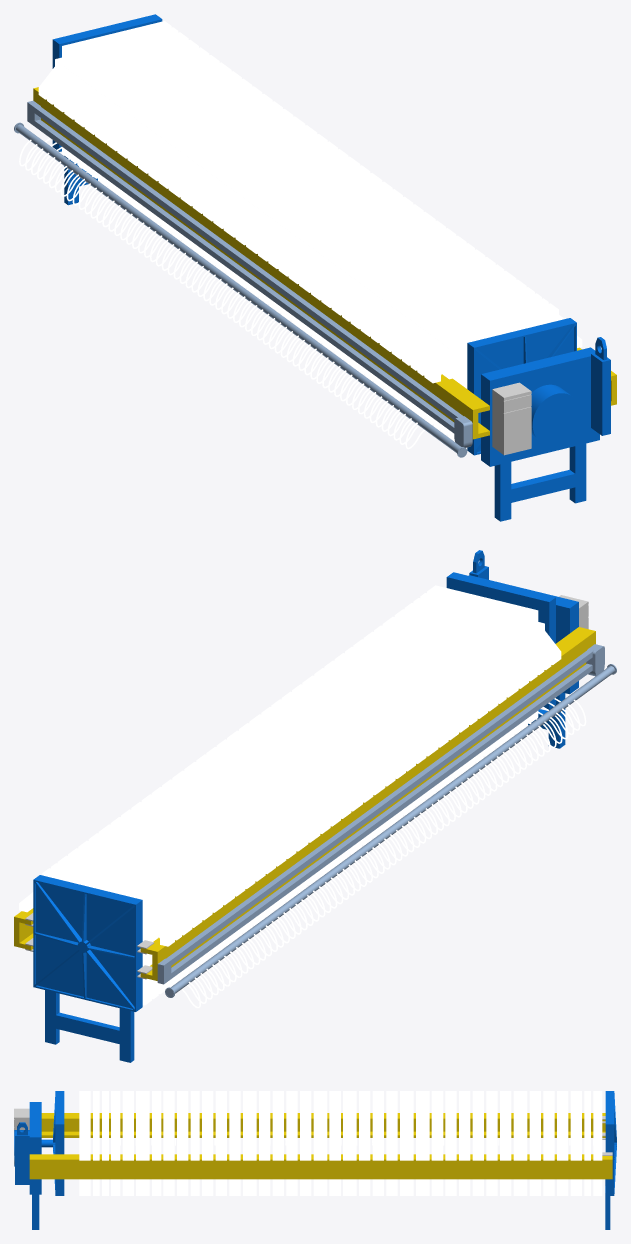
Rendered from diaphragm-filter-press.gltf.
The picture shows the model from 3 angles, top to bottom: view 1: azimuth 30°, elevation 25°; view 2: azimuth 150°, elevation 25°; view 3: azimuth 270°, elevation 25°; orthographic projection. The views are drawn at different scales.
Visible parts, largest first — view 1: 连接的实心几何图形 [292866], 拉伸 [292215], 拉伸 [292234], 拉伸 [292878], 连接的实心几何图形 [291610], 拉伸 [292263], 双电源切换箱 压滤机控制箱 [292364], 滤板 滤板 [291733], 拉伸 [292241], 拉伸 [292245], 拉伸 [292504], 滤板 滤板 [291750] (+37 smaller); view 2: 连接的实心几何图形 [292866], 拉伸 [292378], 拉伸 [292215], 拉伸 [292878], 连接的实心几何图形 [292819], 拉伸 [292823], 拉伸 [291725], 滤板 滤板 [292197], 拉伸 [292234], 滤板 滤板 [292187], 滤板 滤板 [292179], 滤板 滤板 [291746] (+35 smaller); view 3: 拉伸 [292215], 拉伸 [292234], 拉伸 [292245], 连接的实心几何图形 [291610], 连接的实心几何图形 [292819], 拉伸 [291725], 拉伸 [292504], 双电源切换箱 压滤机控制箱 [292364], 拉伸 [292378], 拉伸 [292263], 滤板 滤板 [291733], 滤板 滤板 [291736] (+180 smaller).
Boxes of the visible parts, x1,y1,x2,y2 form: 连接的实心几何图形 [292866]: [34, 106, 472, 447]; 拉伸 [292215]: [33, 87, 616, 439]; 拉伸 [292234]: [481, 347, 599, 466]; 拉伸 [292878]: [16, 124, 465, 456]; 连接的实心几何图形 [291610]: [470, 320, 576, 455]; 拉伸 [292263]: [494, 443, 586, 521]; 双电源切换箱 压滤机控制箱 [292364]: [492, 382, 531, 455]; 滤板 滤板 [291733]: [431, 308, 582, 441]; 拉伸 [292241]: [531, 384, 580, 444]; 拉伸 [292245]: [591, 353, 610, 435]; 拉伸 [292504]: [56, 17, 162, 151]; 滤板 滤板 [291750]: [420, 301, 548, 434]; 连接的实心几何图形 [292866]: [166, 644, 604, 978]; 拉伸 [292378]: [35, 877, 139, 1010]; 拉伸 [292215]: [14, 627, 595, 980]; 拉伸 [292878]: [166, 666, 614, 996]; 连接的实心几何图形 [292819]: [33, 879, 137, 1011]; 拉伸 [292823]: [45, 990, 134, 1062]; 拉伸 [291725]: [446, 575, 552, 709]; 滤板 滤板 [292197]: [19, 872, 169, 1005]; 拉伸 [292234]: [468, 575, 578, 694]; 滤板 滤板 [292187]: [51, 865, 178, 999]; 滤板 滤板 [292179]: [57, 860, 185, 994]; 滤板 滤板 [291746]: [427, 590, 554, 723]; 拉伸 [292215]: [29, 1113, 612, 1179]; 拉伸 [292234]: [29, 1102, 41, 1194]; 拉伸 [292245]: [15, 1133, 29, 1184]; 连接的实心几何图形 [291610]: [41, 1091, 60, 1195]; 连接的实心几何图形 [292819]: [612, 1091, 616, 1195]; 拉伸 [291725]: [60, 1091, 64, 1195]; 拉伸 [292504]: [605, 1091, 609, 1195]; 双电源切换箱 压滤机控制箱 [292364]: [14, 1108, 29, 1155]; 拉伸 [292378]: [609, 1091, 612, 1195]; 拉伸 [292263]: [32, 1194, 39, 1229]; 滤板 滤板 [291733]: [79, 1091, 81, 1195]; 滤板 滤板 [291736]: [81, 1091, 83, 1195].
Size of the model in its own units: 2.56 by 2.3 by 11.47.
